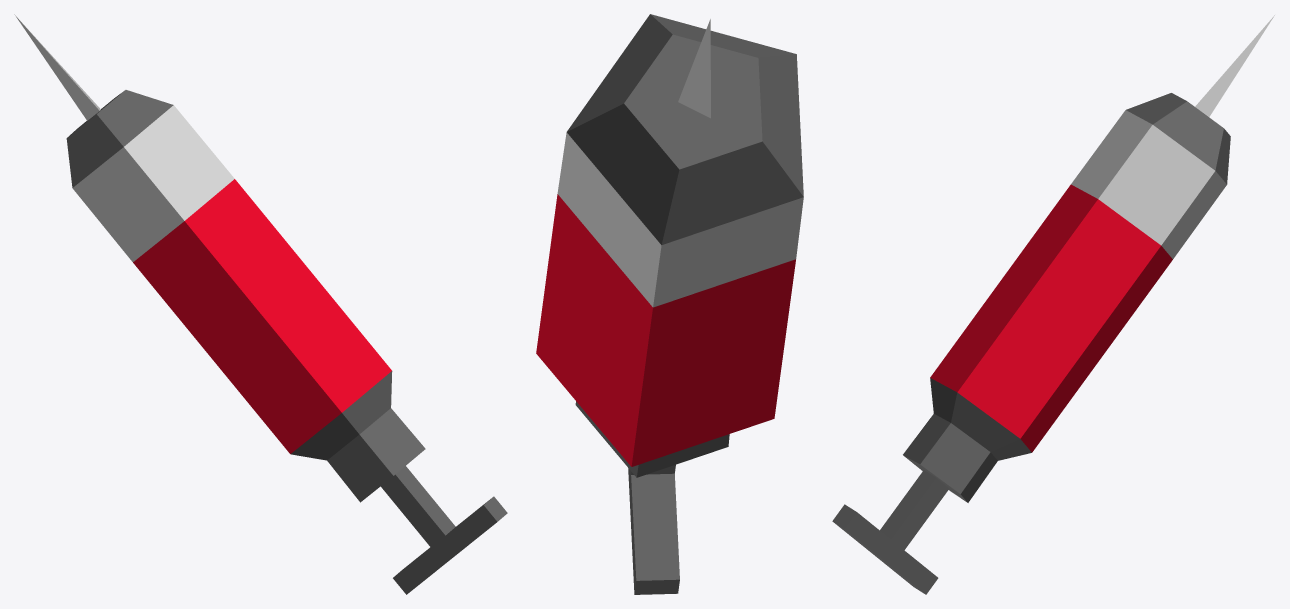
The model's file is HPpick.fbx.
The picture shows the model from 3 angles, left to right: view 1: azimuth 30°, elevation 25°; view 2: azimuth 150°, elevation 25°; view 3: azimuth 270°, elevation 25°; orthographic projection. The views are drawn at different scales.
Parts seen in each view (by area): view 1: HealthPickUp; view 2: HealthPickUp; view 3: HealthPickUp.
Boxes of the visible parts, box(x1,y1,x2,y2) form: HealthPickUp: box(14, 14, 507, 594); HealthPickUp: box(536, 14, 803, 594); HealthPickUp: box(832, 15, 1274, 594).
Bounding box in the file's own units: 26.44 × 46.13 × 38.9.
